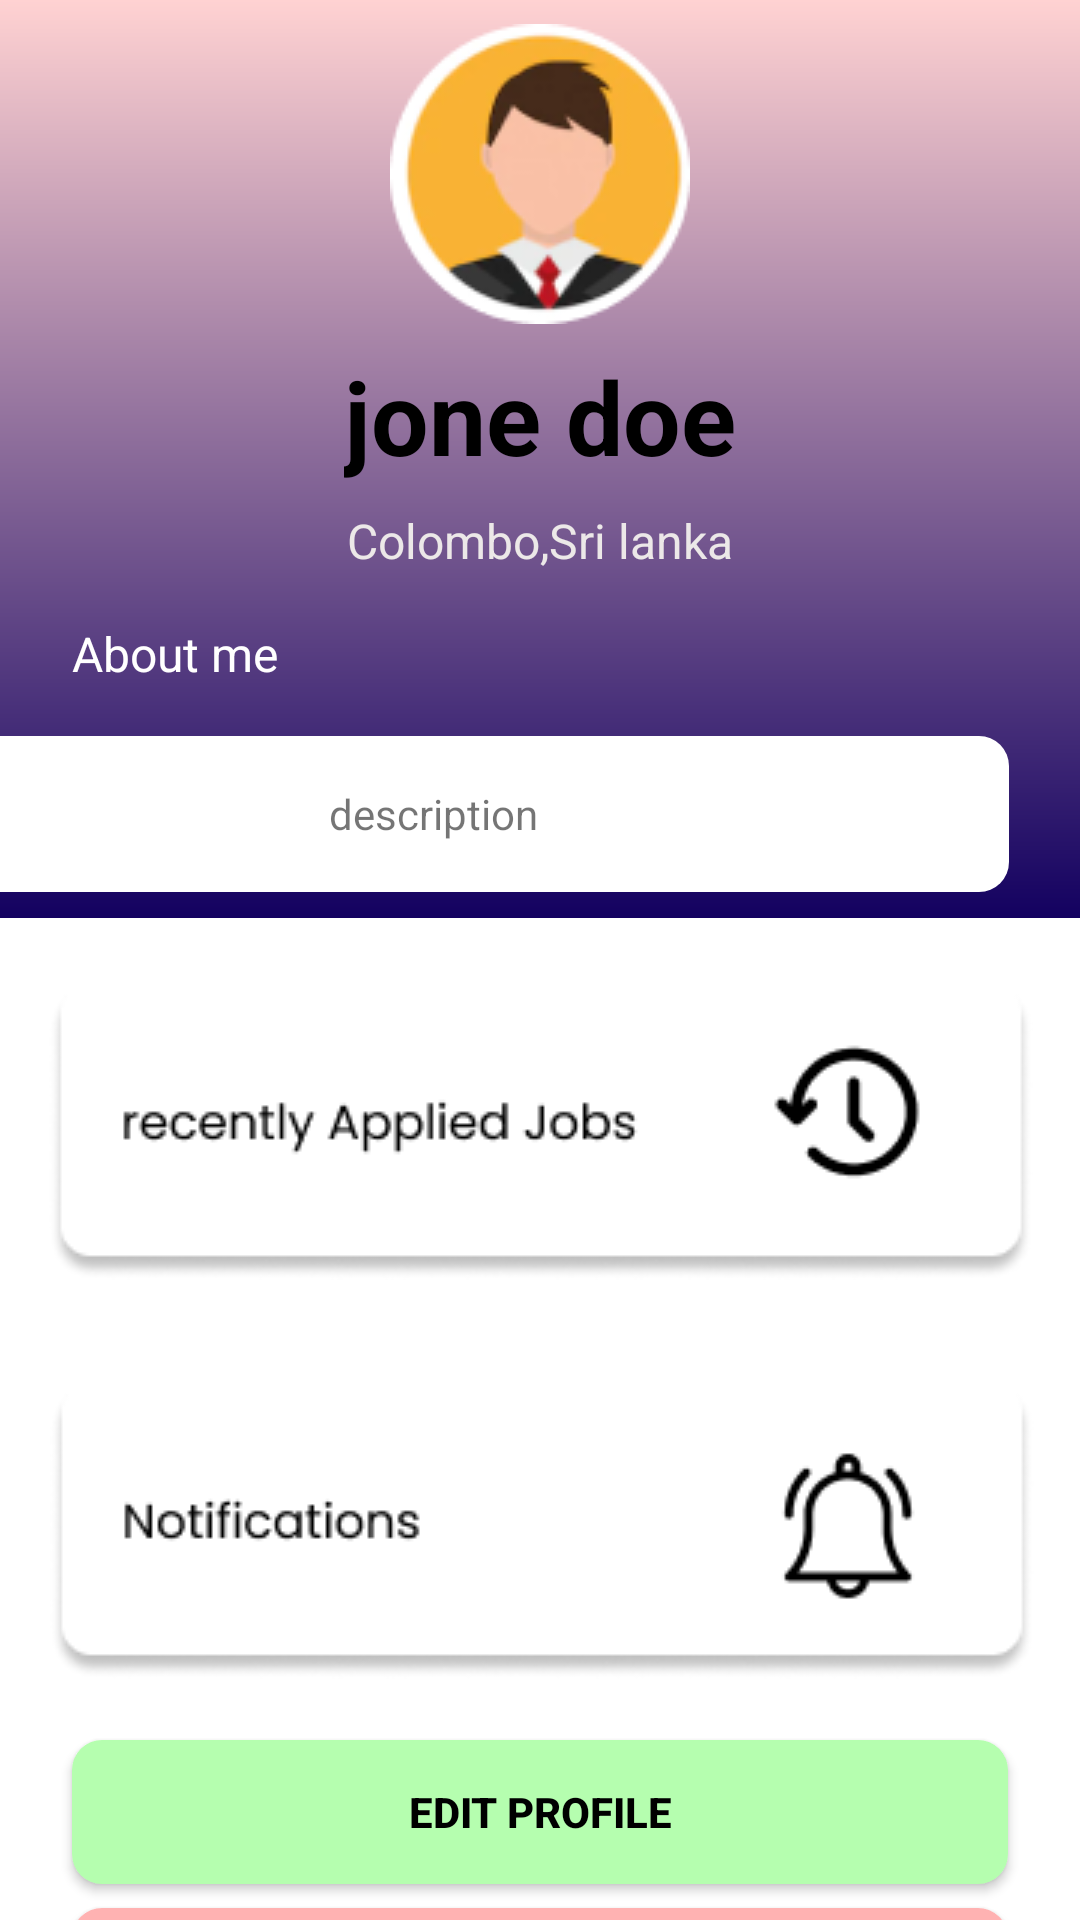

Icon click points for this 1080x1920 phone screenshot, format (x,y):
user: (540,174)
